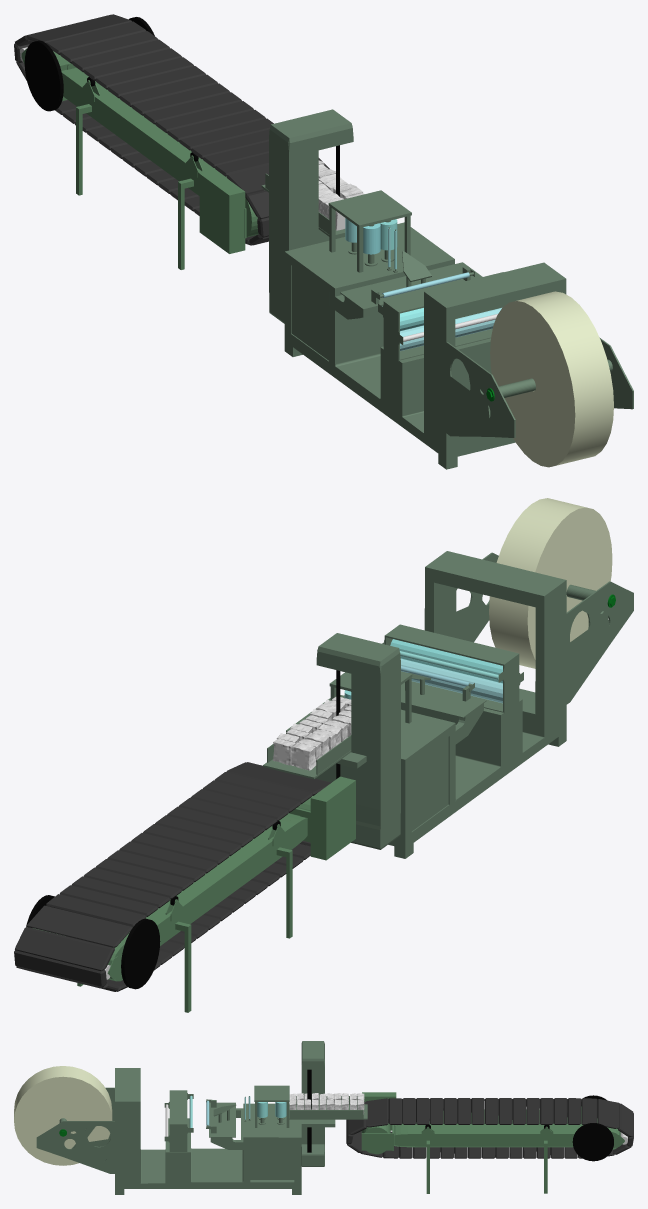
Rendered from LSX-230 — копия.fbx.
3 renders of one model, top to bottom at view 1: azimuth 30°, elevation 25°; view 2: azimuth 150°, elevation 25°; view 3: azimuth 270°, elevation 25°, orthographic. The views are drawn at different scales.
Visible parts, largest first — view 1: Конвейер, Конвейерная лента, Рулон, Цилиндр, Цилиндр.013, Цилиндр2; view 2: Конвейер, Конвейерная лента, Цилиндр, Рулон, Цилиндр.013, Цилиндр2, Цилиндр1; view 3: Конвейер, Конвейерная лента, Рулон, Цилиндр, Цилиндр.012, Лезвие.
Boxes of the visible parts, <box> form: Конвейер: <box>261,109,633,469</box>; Конвейерная лента: <box>14,14,329,245</box>; Рулон: <box>490,291,613,467</box>; Цилиндр: <box>21,48,258,269</box>; Цилиндр.013: <box>24,40,63,111</box>; Цилиндр2: <box>400,308,501,351</box>; Конвейер: <box>263,551,633,858</box>; Конвейерная лента: <box>14,762,331,991</box>; Цилиндр: <box>33,776,355,1012</box>; Рулон: <box>489,498,612,668</box>; Цилиндр.013: <box>121,918,160,989</box>; Цилиндр2: <box>400,658,502,703</box>; Цилиндр1: <box>390,639,502,683</box>; Конвейер: <box>36,1041,367,1194</box>; Конвейерная лента: <box>346,1098,633,1158</box>; Рулон: <box>14,1066,112,1165</box>; Цилиндр: <box>361,1092,624,1193</box>; Цилиндр.012: <box>572,1123,613,1161</box>; Лезвие: <box>307,1069,311,1152</box>.
Bounding box in the file's own units: 113 × 182 × 841.
